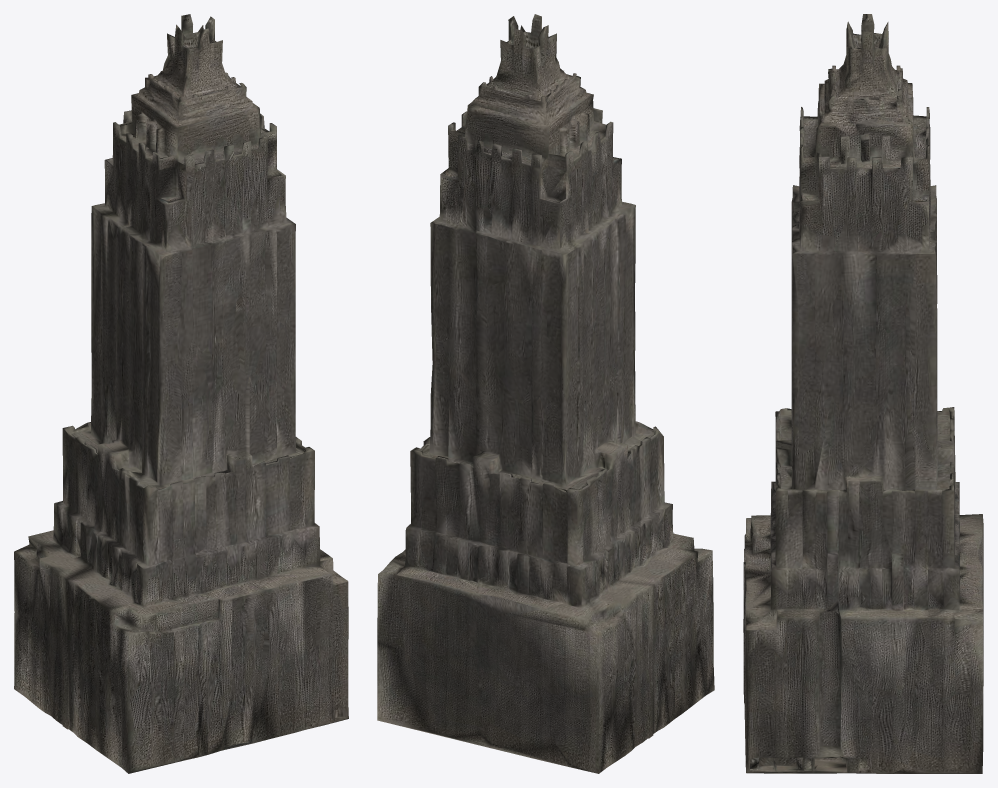
File: bld3_hi.glb
The picture shows the model from 3 angles, left to right: view 1: azimuth 30°, elevation 25°; view 2: azimuth 150°, elevation 25°; view 3: azimuth 270°, elevation 25°; orthographic projection. The views are drawn at different scales.
Visible parts, largest first — view 1: tripo_node_9c119c67-1dd0-4b7c-adce-8fce22536dcd; view 2: tripo_node_9c119c67-1dd0-4b7c-adce-8fce22536dcd; view 3: tripo_node_9c119c67-1dd0-4b7c-adce-8fce22536dcd.
Boxes of the visible parts, bbox=[...] form: tripo_node_9c119c67-1dd0-4b7c-adce-8fce22536dcd: bbox=[14, 14, 348, 773]; tripo_node_9c119c67-1dd0-4b7c-adce-8fce22536dcd: bbox=[377, 14, 714, 773]; tripo_node_9c119c67-1dd0-4b7c-adce-8fce22536dcd: bbox=[743, 14, 983, 773].
Bounding box in the file's own units: 0.3429 × 0.9997 × 0.3092.
Materials: 1 (1 with a texture image).
